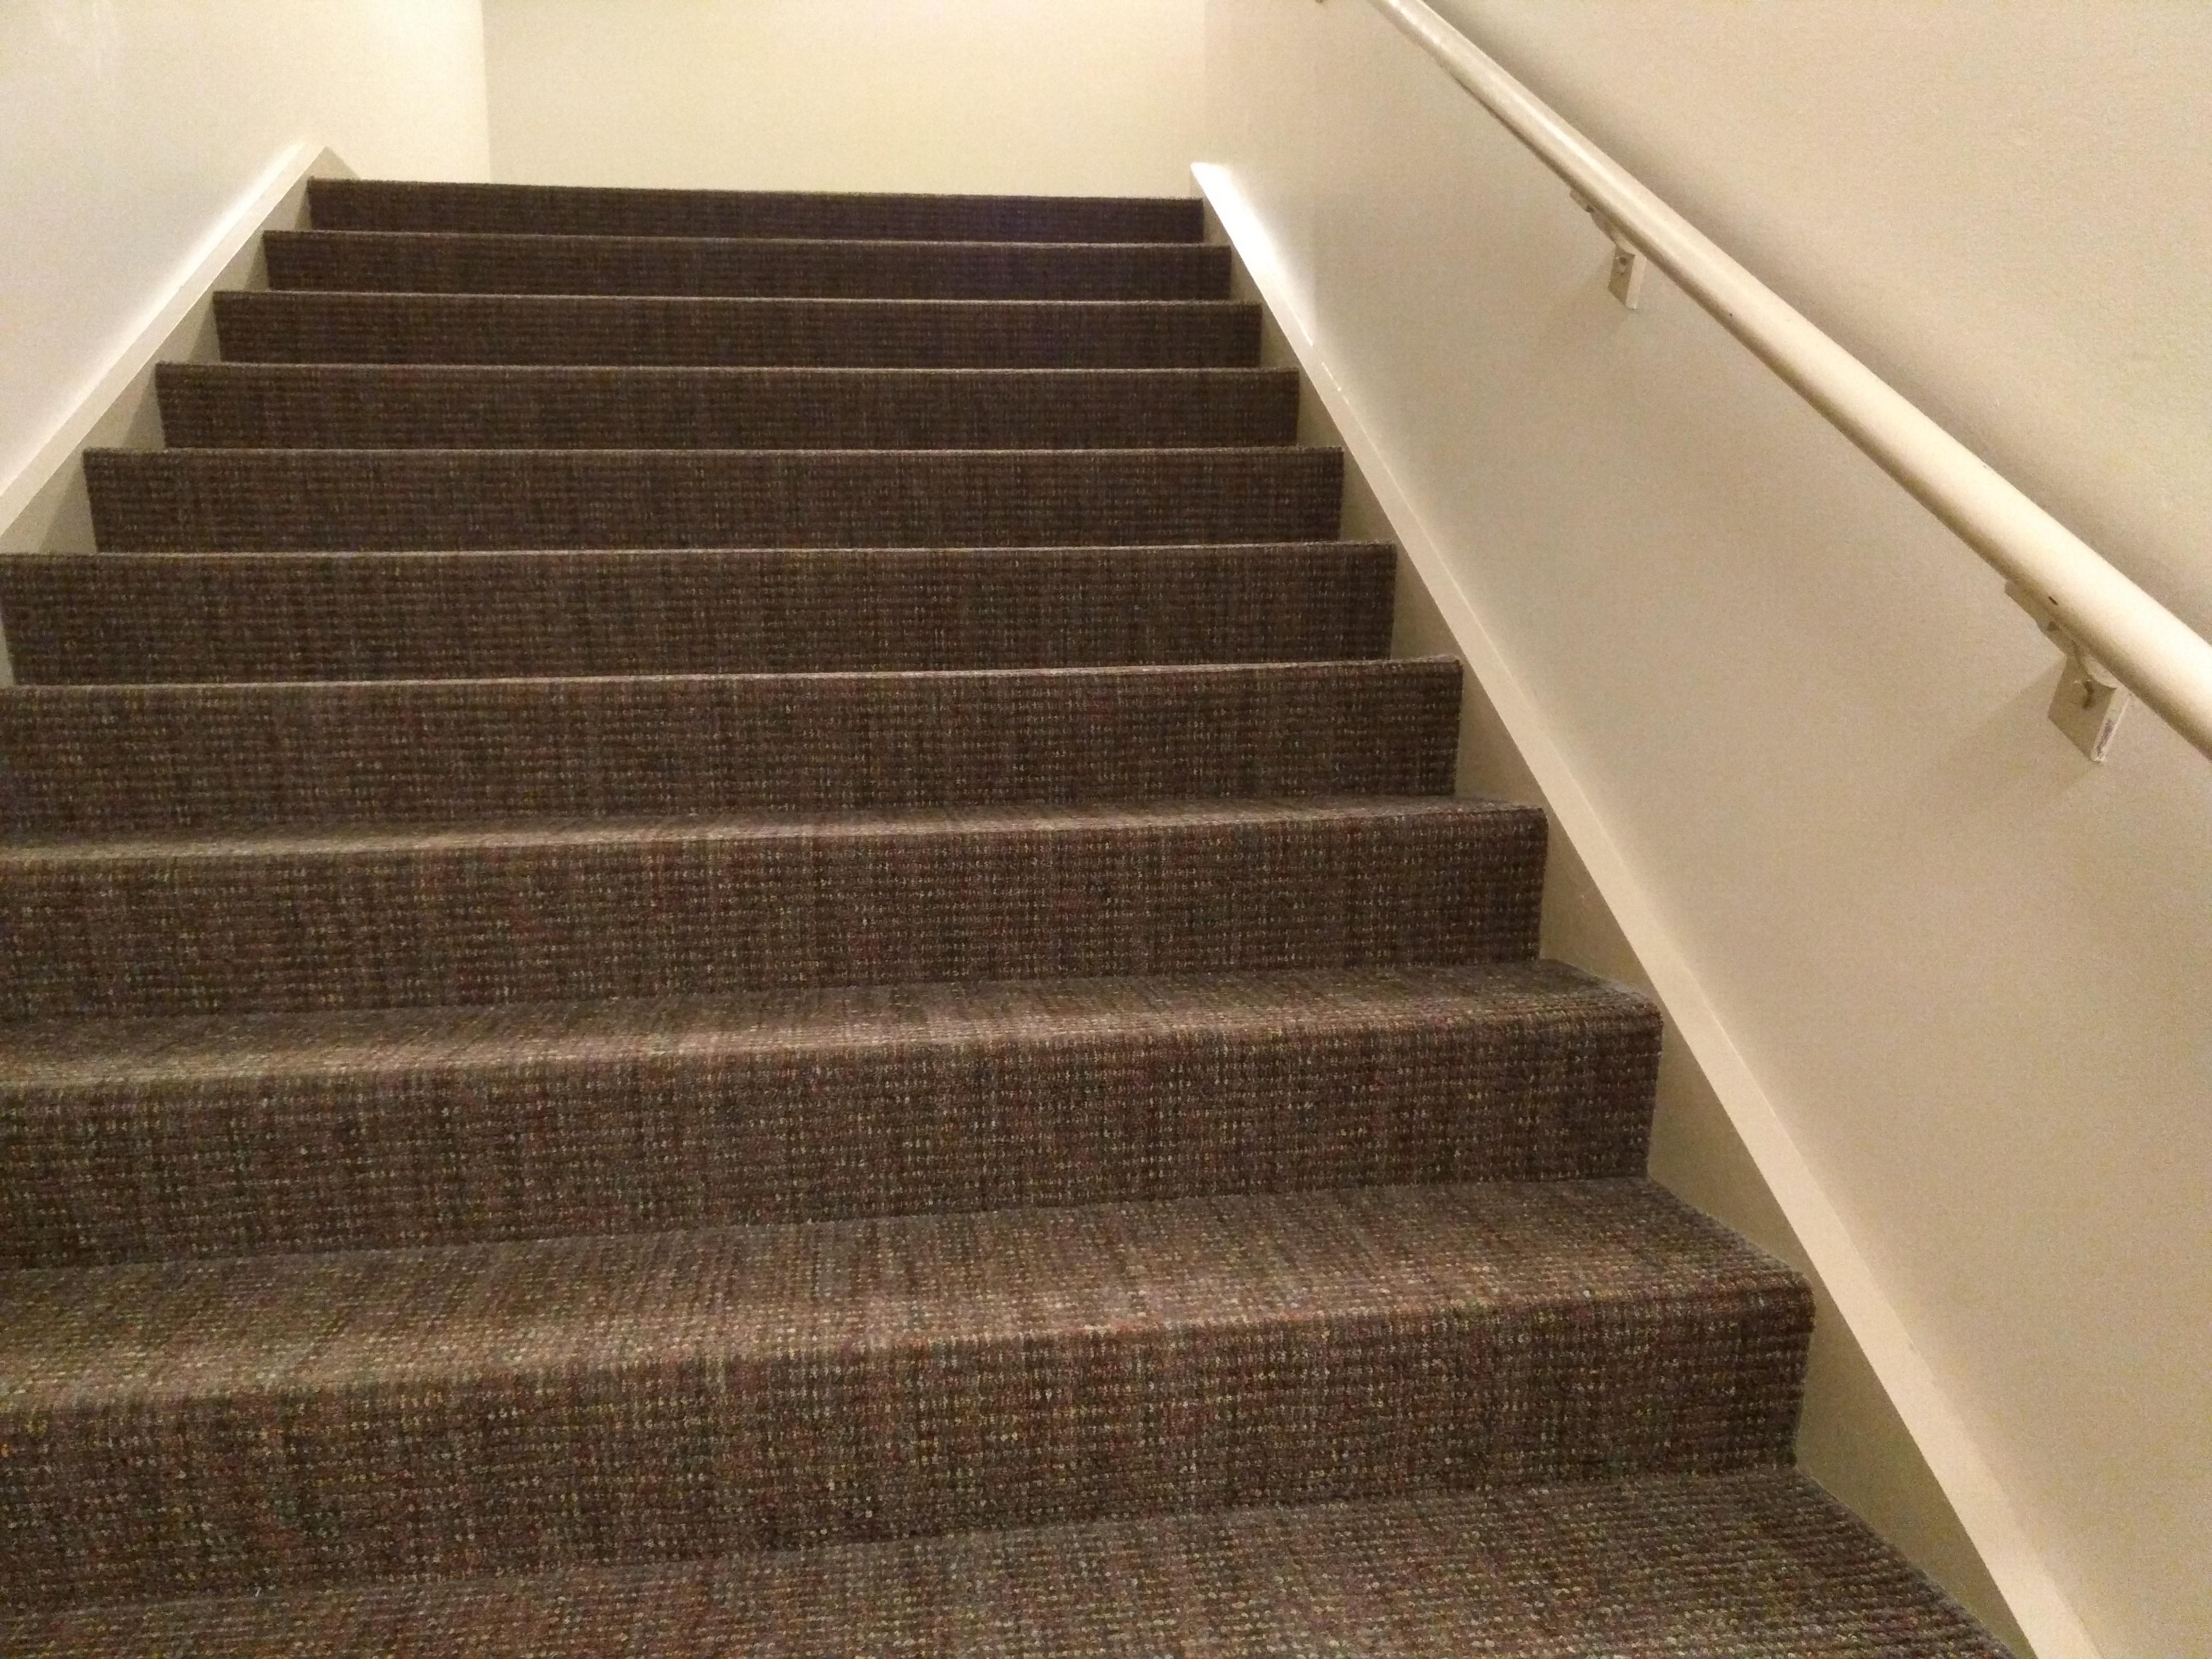stairs_up: (0, 120, 1792, 1589)
